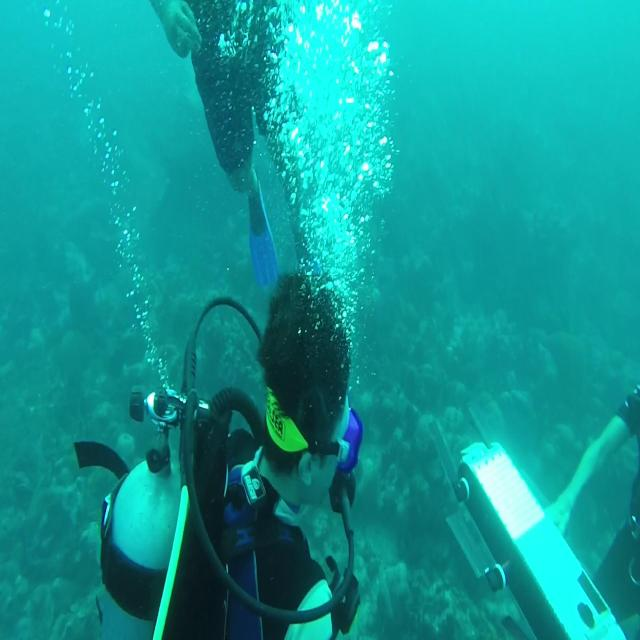human: (74, 269, 363, 638), (428, 383, 639, 638), (148, 0, 305, 288)
